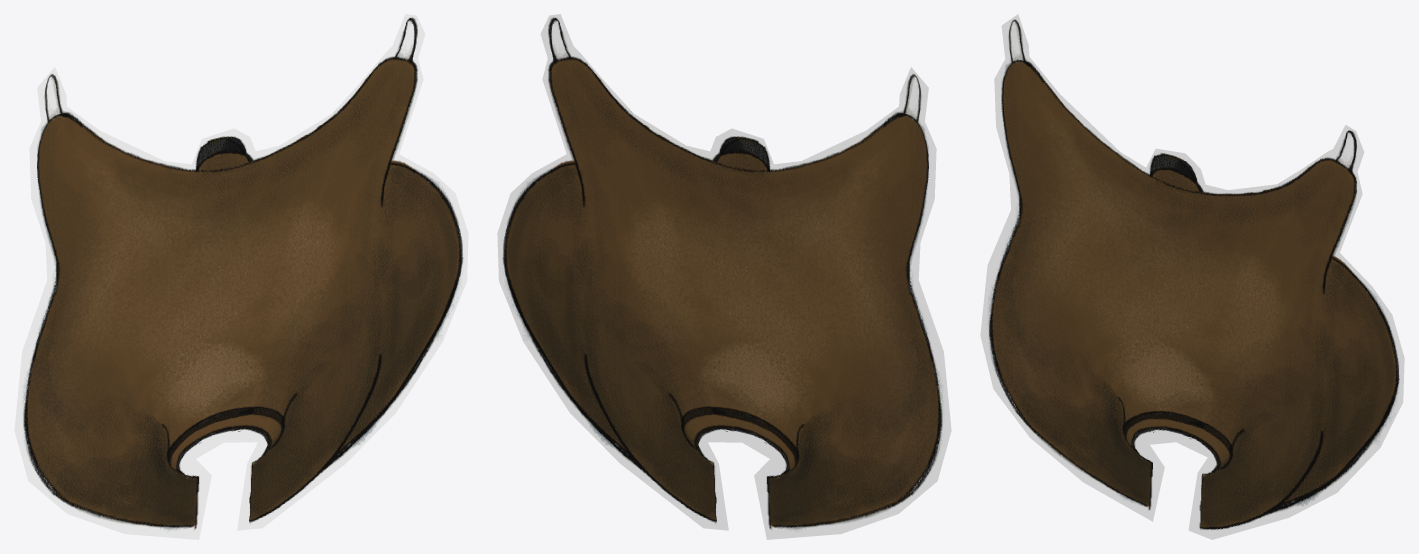
File: mech.glb
3 views of the same model, side by side, from view 1: azimuth 30°, elevation 25°; view 2: azimuth 150°, elevation 25°; view 3: azimuth 330°, elevation 25° (orthographic). The views are drawn at different scales.
Parts seen in each view (by area): view 1: Plane.019; view 2: Plane.019; view 3: Plane.019.
Boxes of the visible parts, x1,y1,x2,y2 form: Plane.019: (14, 14, 468, 539); Plane.019: (497, 14, 951, 539); Plane.019: (980, 14, 1404, 539).
Bounding box in the file's own units: 12.19 × 13.14 × 0.
Materials: 1 (1 with a texture image).
